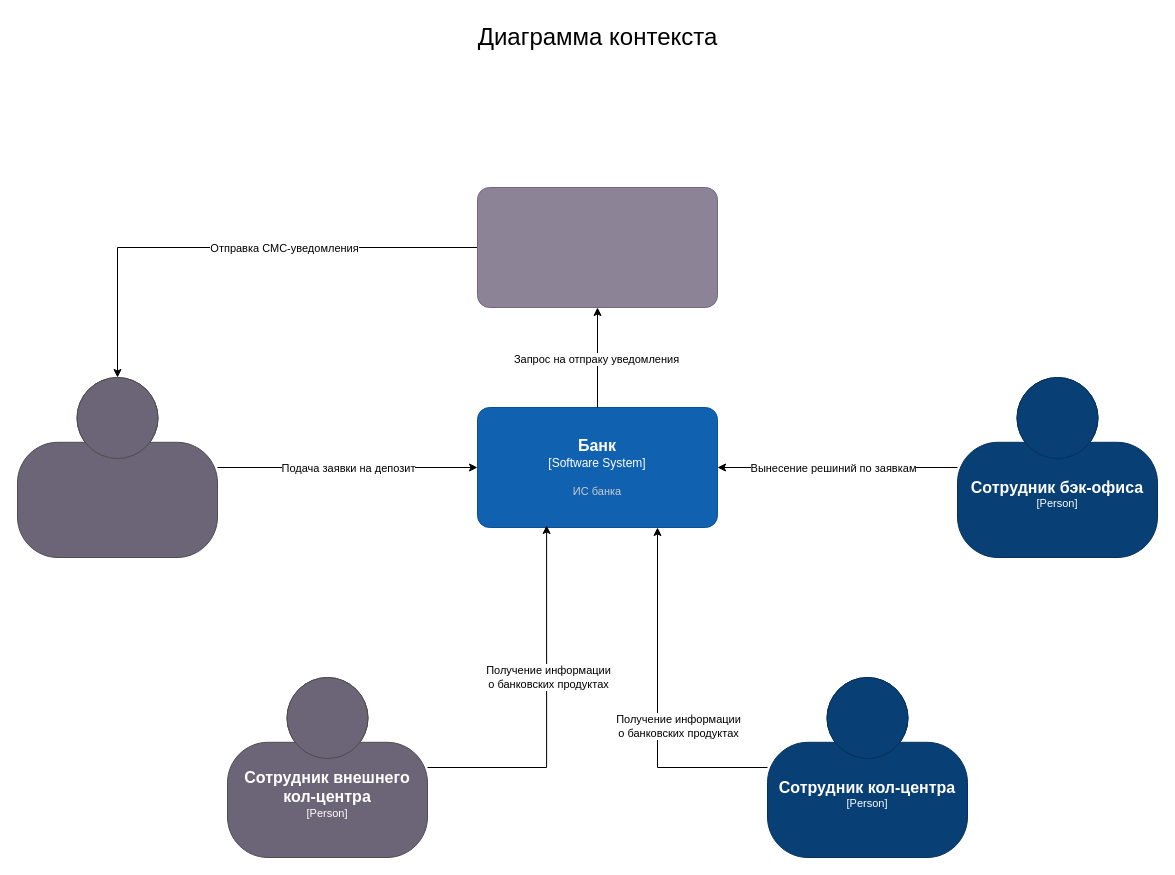
Image size: 1175x875. Some labels were removed from this diagram. The box of each missing label's shape, as (x1, y1, x2, y2) in pixels:
Клиент [Person]: (16, 376, 218, 558)
Телеком-оператор [Software System]: (476, 186, 718, 308)
